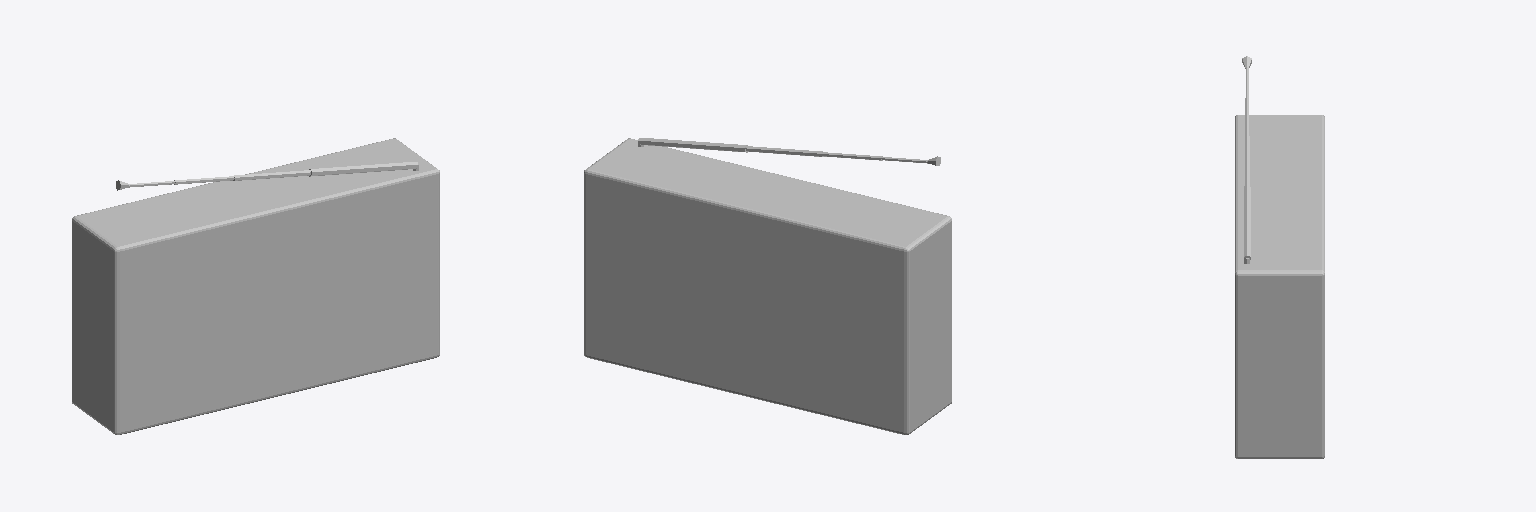
The model's file is radio.obj.
3 views of the same model, side by side, from view 1: azimuth 30°, elevation 25°; view 2: azimuth 150°, elevation 25°; view 3: azimuth 270°, elevation 25° (orthographic).
Visible parts, largest first — view 1: Radio; view 2: Radio; view 3: Radio.
Boxes of the visible parts, box(x1,y1,x2,y2) form: Radio: box(72, 138, 439, 434); Radio: box(584, 138, 951, 434); Radio: box(1235, 56, 1324, 458).
Bounding box in the file's own units: 34.72 × 25.46 × 8.36.